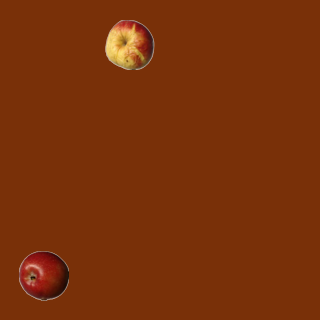Apple Braeburn: (18, 250, 68, 300)
Apple Red Yellow 1: (104, 19, 154, 69)
